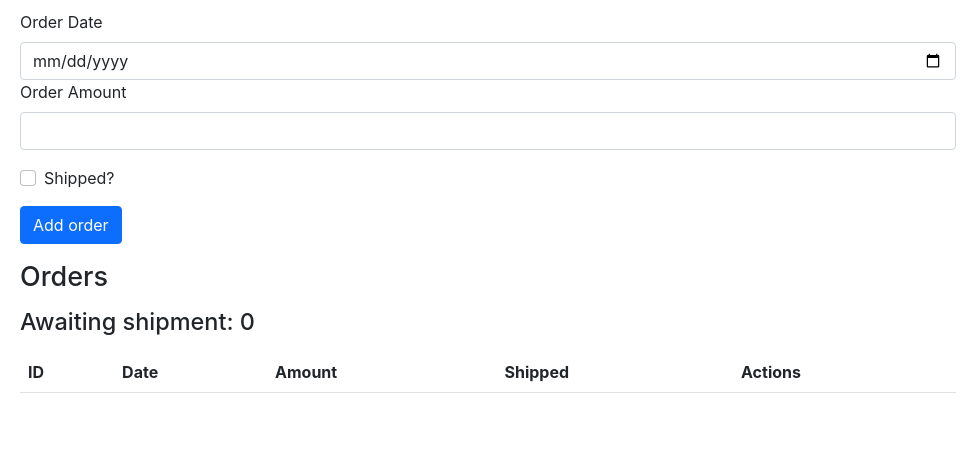
Orders › can add an order
Type "2022-03-29" into the date field labelled "Order Date" at (488, 61), box [20,42,956,80]
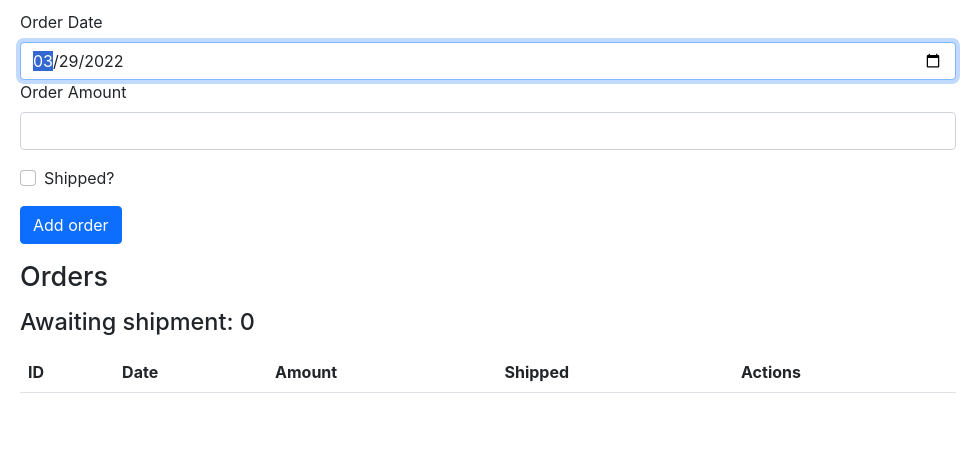
Type "123" into the number field labelled "Order Amount" at (488, 131), box [20,112,956,150]
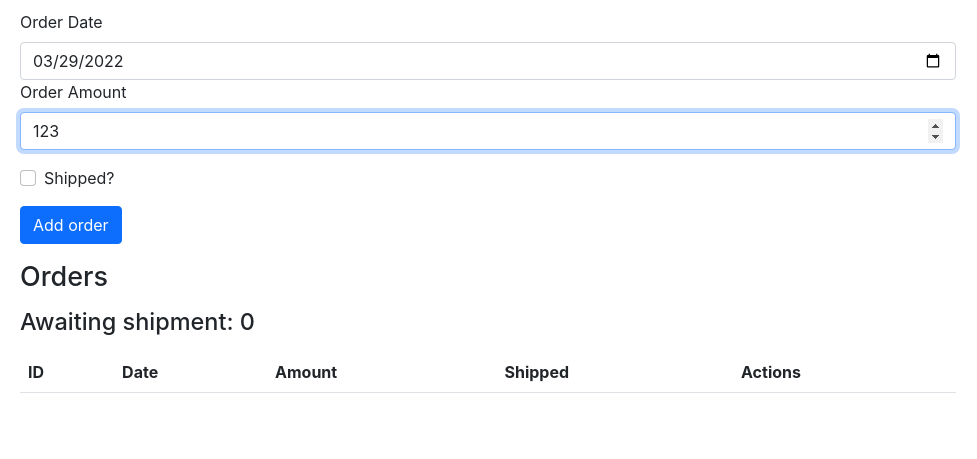
Click the checkbox labelled "Shipped?" at (28, 178), box [20,170,36,186]
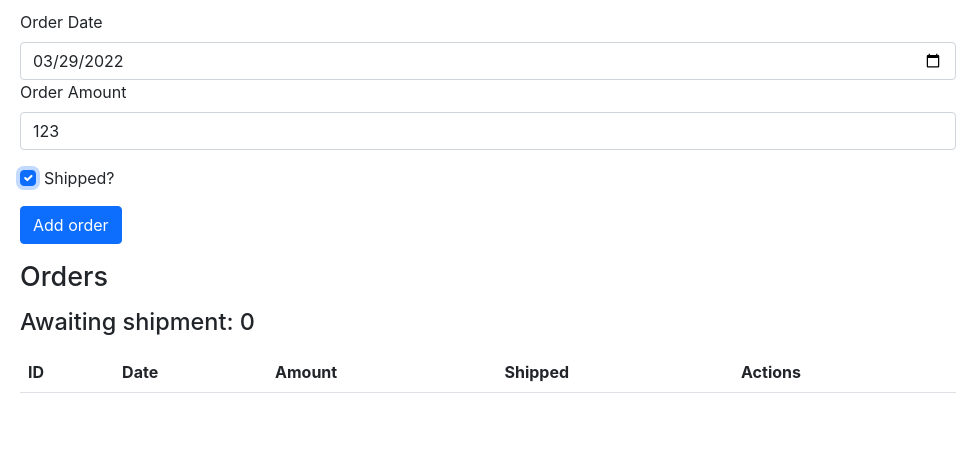
expect the checkbox labelled "Shipped?" is checked: met, box [20,170,36,186]
Click the button "Add order" at (71, 225), box [20,206,122,244]
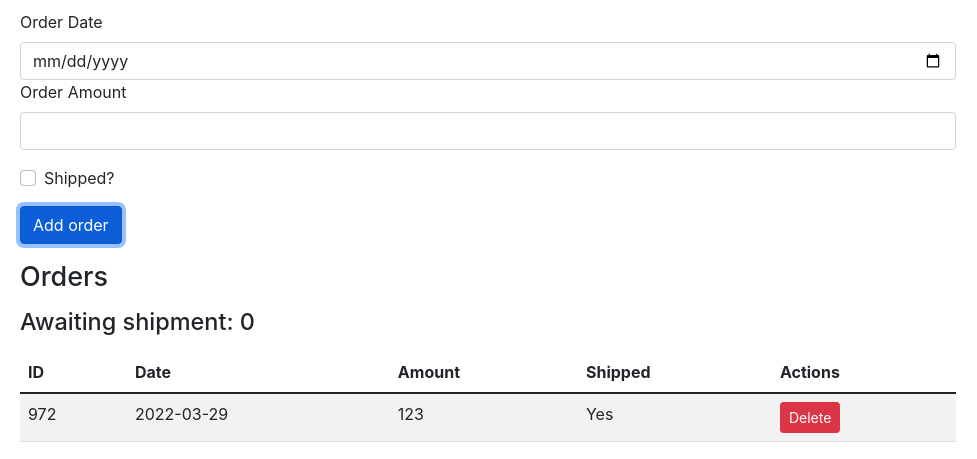
expect the checkbox labelled "Shipped?" is not checked: met, box [20,170,36,186]
expect the date field labelled "Order Date" is empty: met, box [20,42,956,80]
expect the number field labelled "Order Amount" is not empty: met, box [20,112,956,150]
